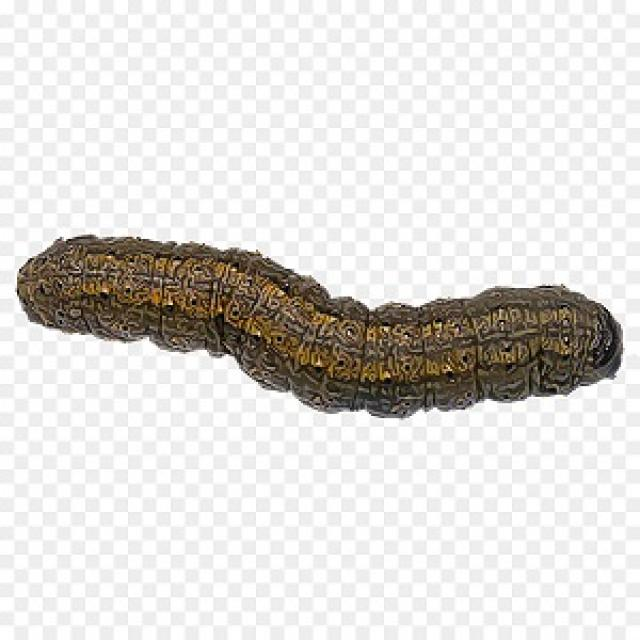worm: (16, 232, 624, 419)
